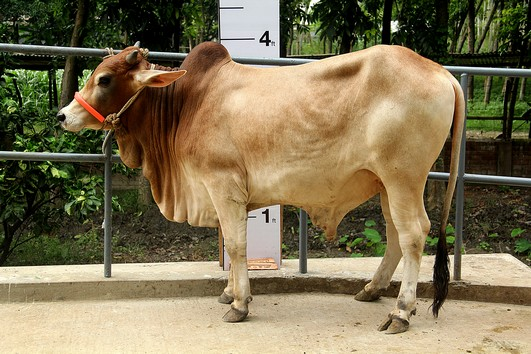cow: (52, 37, 467, 334)
